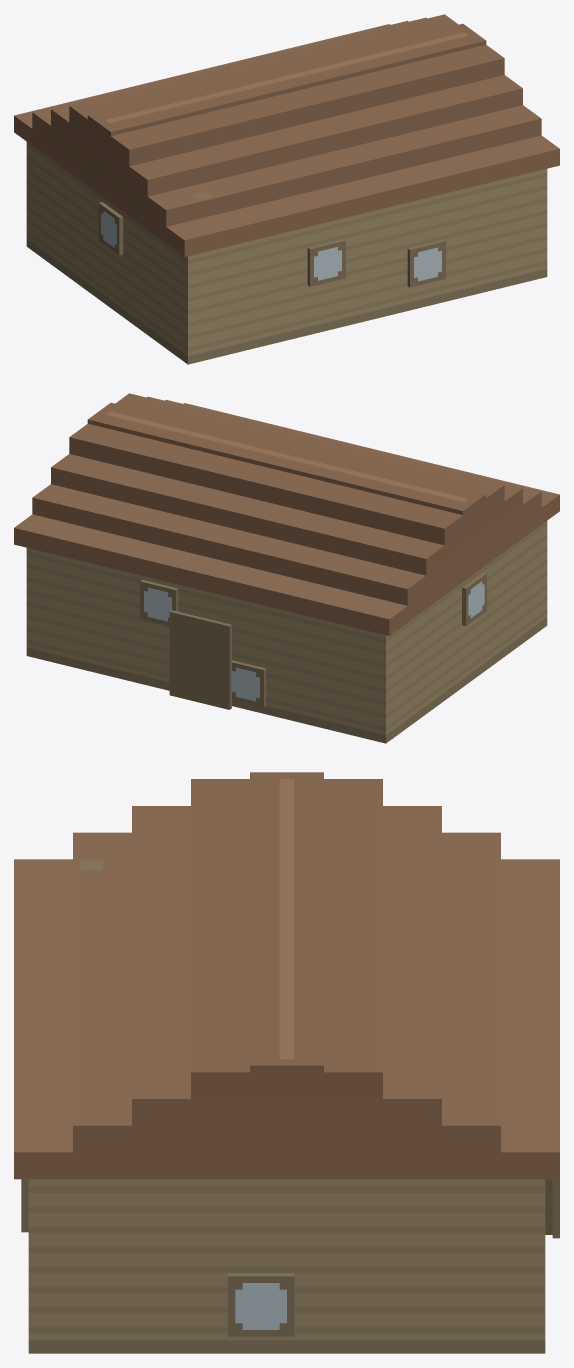
The model's file is astillero_02.glb.
The picture shows the model from 3 angles, top to bottom: view 1: azimuth 30°, elevation 25°; view 2: azimuth 150°, elevation 25°; view 3: azimuth 270°, elevation 25°; orthographic projection. The views are drawn at different scales.
Visible parts, largest first — view 1: astillero_02; view 2: astillero_02; view 3: astillero_02.
Boxes of the visible parts, left/top/right/bottom form: astillero_02: left=14, top=14, right=559, bottom=364; astillero_02: left=14, top=393, right=559, bottom=743; astillero_02: left=14, top=772, right=559, bottom=1353.
Size of the model in its own units: 9.4 by 4.4 by 7.4.
